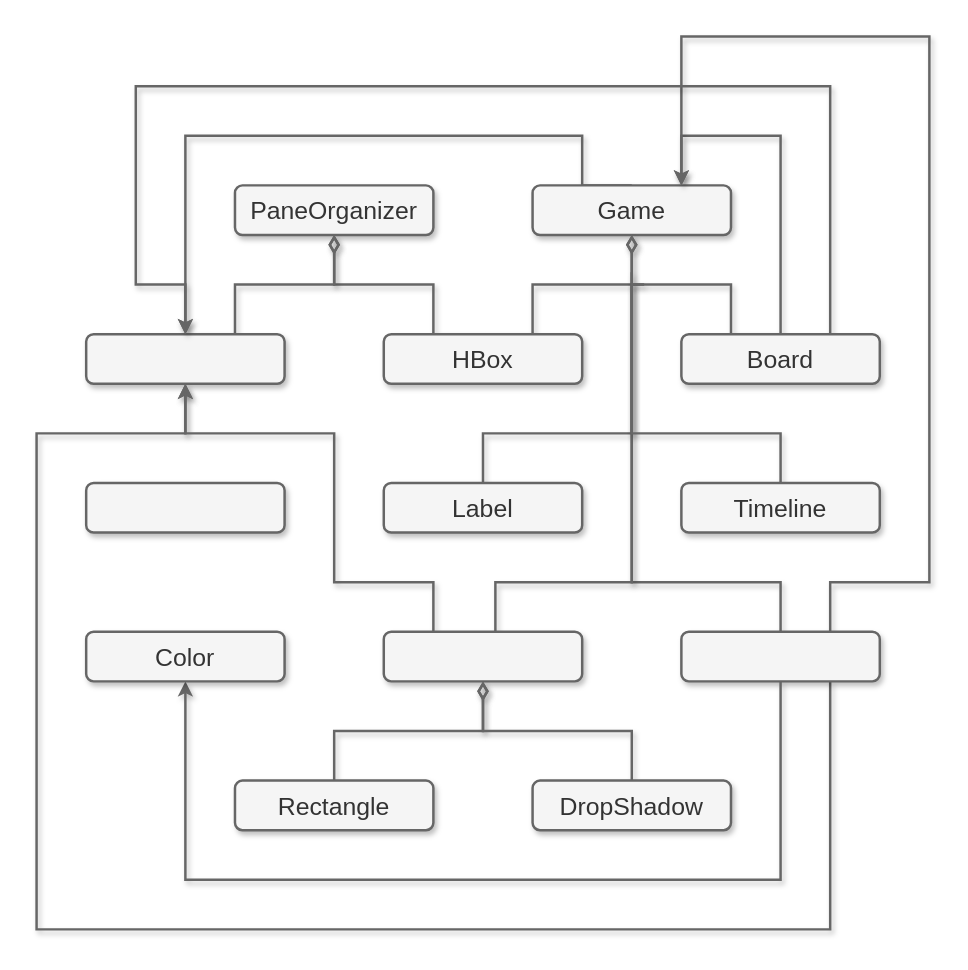
Some shapes in this 968 by 970 pixel diagram are drawn without their labels. Each missing label, with the centre of its shape:
"Block" goes at (x=483, y=658).
"BorderPane" goes at (x=186, y=360).
"Constants" goes at (x=186, y=509).
"Piece" goes at (x=781, y=658).
